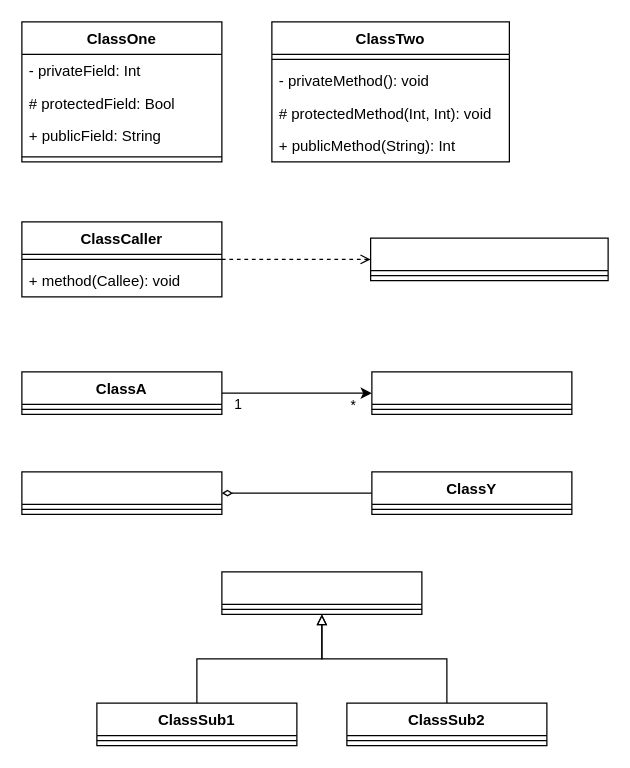
This 630x768 diagram has some shape labels left out. The centre of each missing label's shape, as x and y in pixels:
"Callee" goes at [488,259].
"ClassB" goes at [471,392].
"ClassSuper" goes at [321,592].
"ClassX" goes at [121,492].
